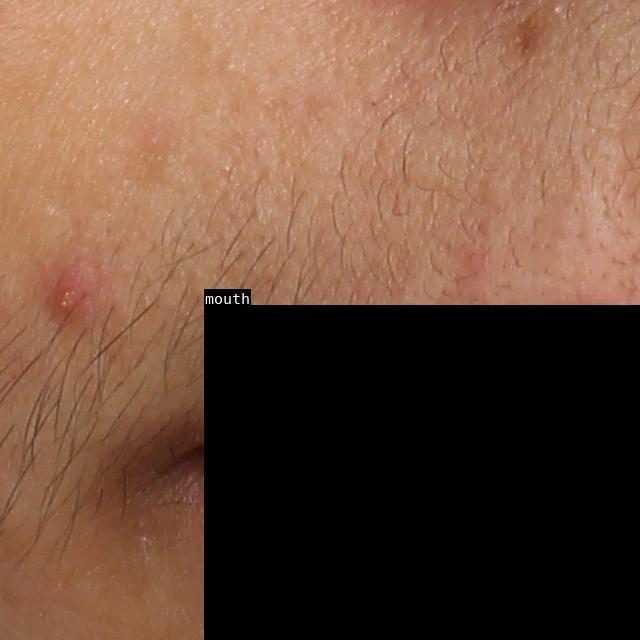comedo: (220, 58, 240, 76)
papule: (38, 252, 98, 328)
